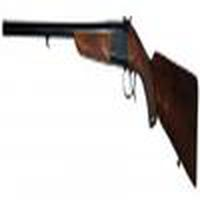gun: (1, 15, 198, 190)
